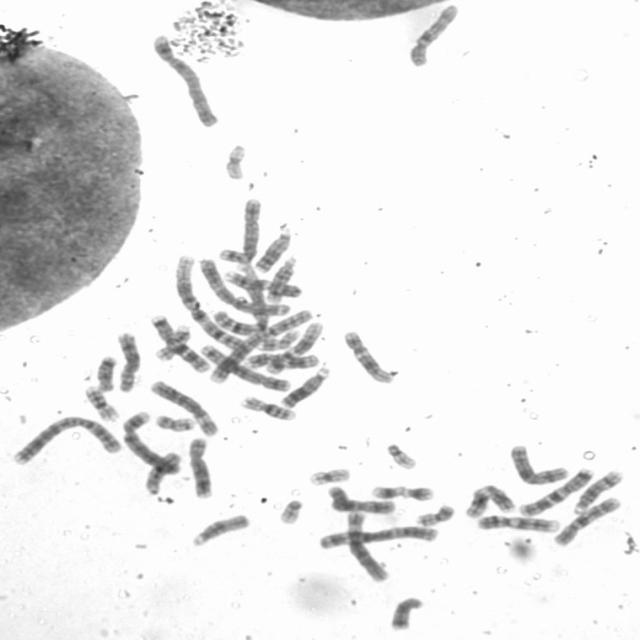A1: (172, 250, 250, 350), (209, 260, 268, 334)
A2: (207, 306, 317, 385), (6, 411, 124, 466)
A3: (194, 254, 292, 317), (314, 521, 442, 551)
B4: (148, 30, 222, 128), (117, 406, 183, 475)
B5: (196, 340, 294, 393), (216, 195, 265, 264)
C10: (547, 492, 623, 548), (405, 0, 461, 68)
C11: (461, 481, 517, 518), (241, 349, 321, 372)
C12: (260, 318, 326, 374), (339, 326, 395, 385)
C6: (145, 377, 220, 436), (342, 507, 392, 582)
C7: (515, 464, 596, 517), (146, 310, 212, 374)
C8: (182, 433, 216, 500), (112, 328, 143, 394)
C9: (220, 268, 304, 298), (472, 511, 562, 534)
D13: (277, 364, 333, 410), (250, 226, 295, 274)
D14: (569, 465, 625, 515), (263, 253, 299, 303)
D15: (186, 510, 252, 548), (141, 452, 190, 498)
E16: (237, 392, 298, 422), (80, 382, 122, 422)
E17: (151, 322, 192, 362), (256, 328, 304, 352)
E18: (386, 591, 428, 631), (93, 352, 119, 392)
F19: (221, 139, 250, 181), (304, 464, 353, 486)
F20: (412, 499, 457, 527), (151, 410, 197, 433)
G21: (394, 482, 436, 502), (367, 482, 409, 500)
G22: (383, 440, 420, 470), (275, 495, 305, 525)
X: (505, 440, 572, 486), (325, 483, 398, 515)
